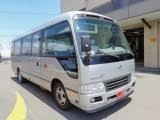bus: (11, 10, 136, 113)
